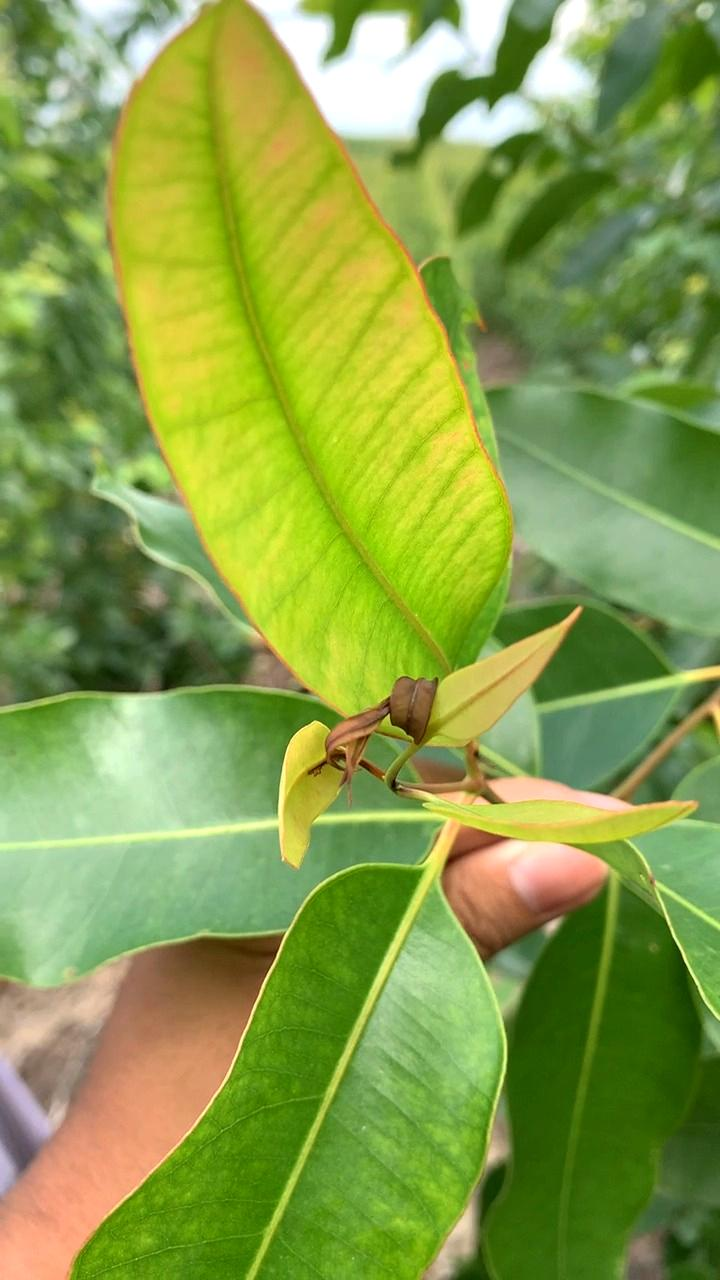Helopeltis-Withered Sprout: (301, 648, 463, 811)
